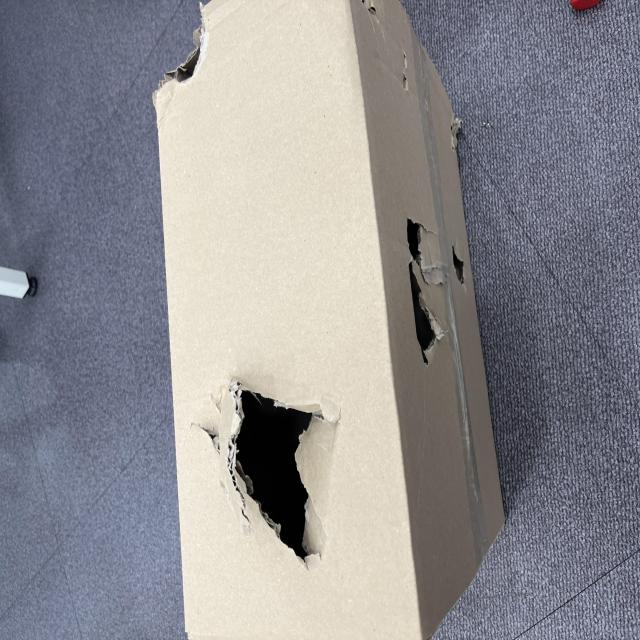damaged: (53, 255, 184, 440), (193, 545, 322, 592), (396, 212, 478, 280), (267, 600, 301, 627)
